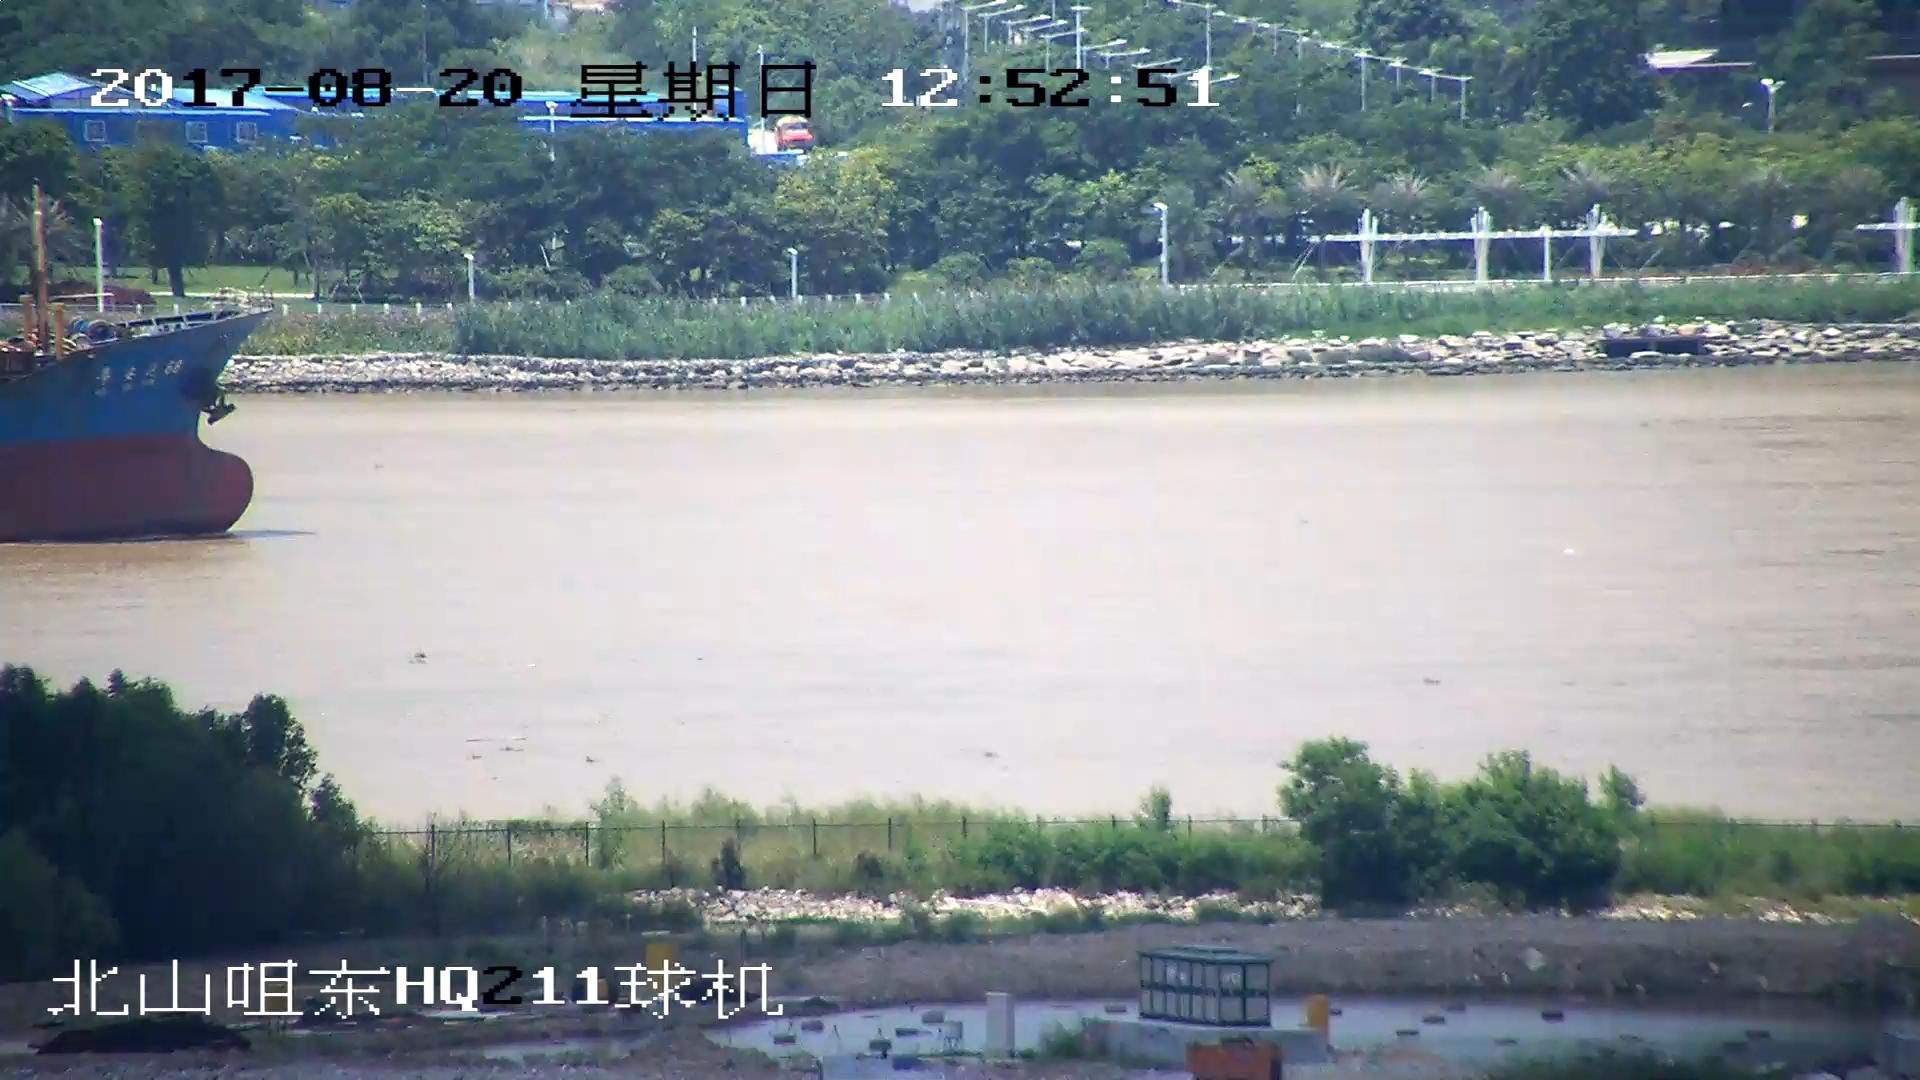general cargo ship: (1, 290, 276, 545)
